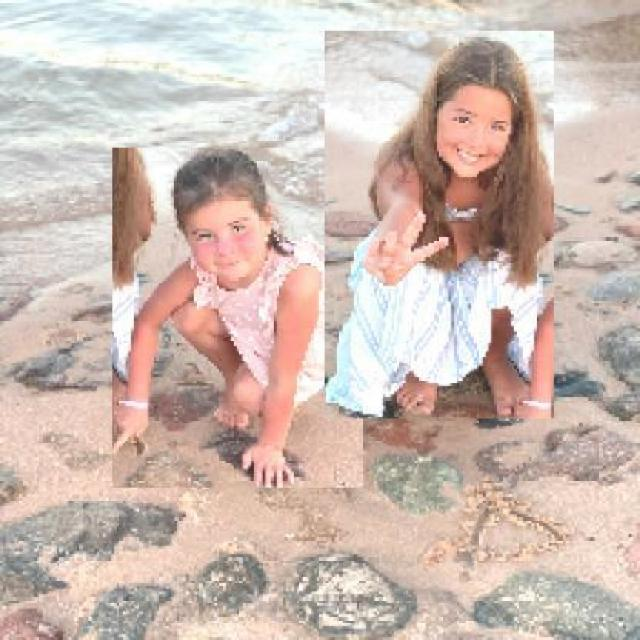child: (323, 31, 554, 420), (111, 148, 363, 489)
